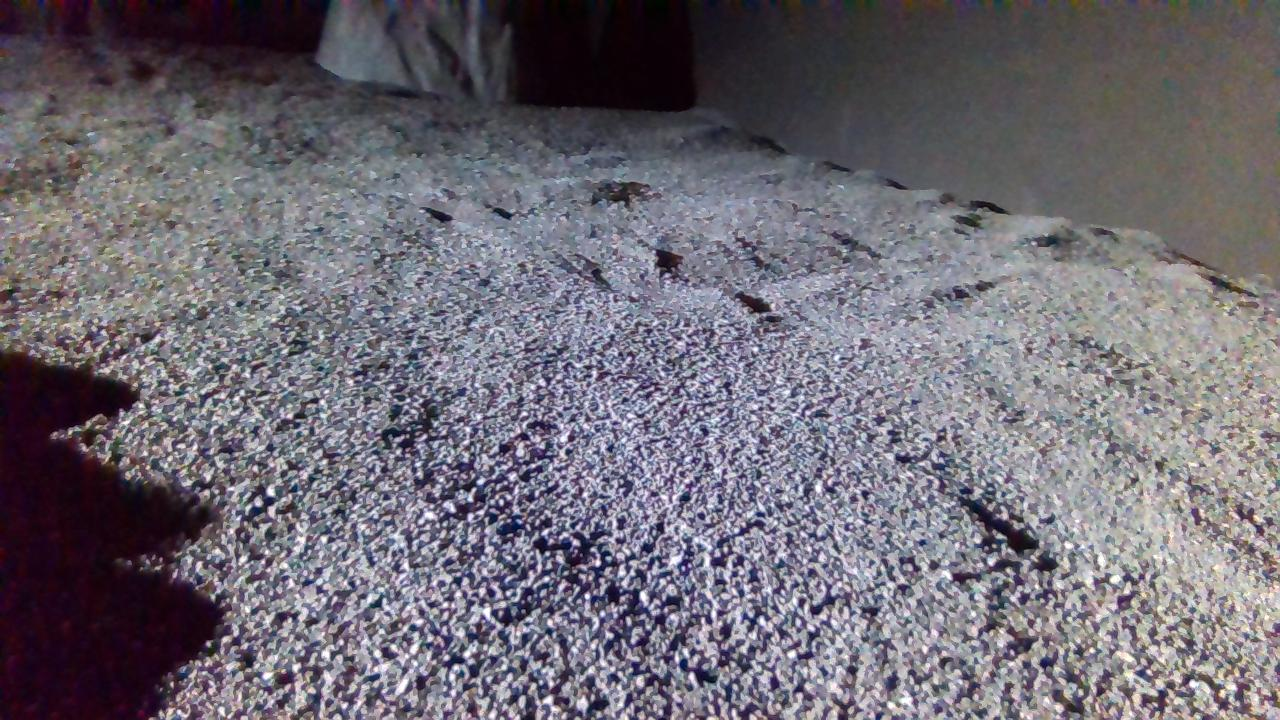rock: (315, 0, 512, 100)
